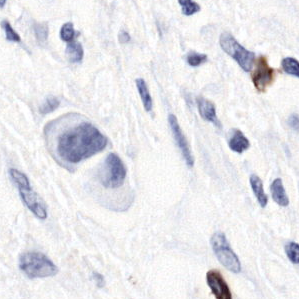Lymphocyte: (249, 53, 277, 93)
